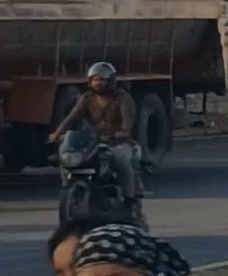BikeWithRider: (41, 53, 158, 245)
Helmet: (81, 58, 123, 95)
